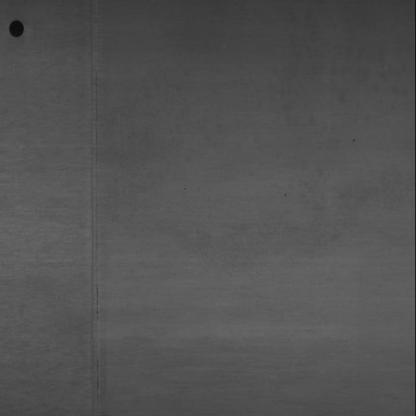punching_hole: (4, 14, 36, 41)
welding_line: (76, 0, 107, 411)
